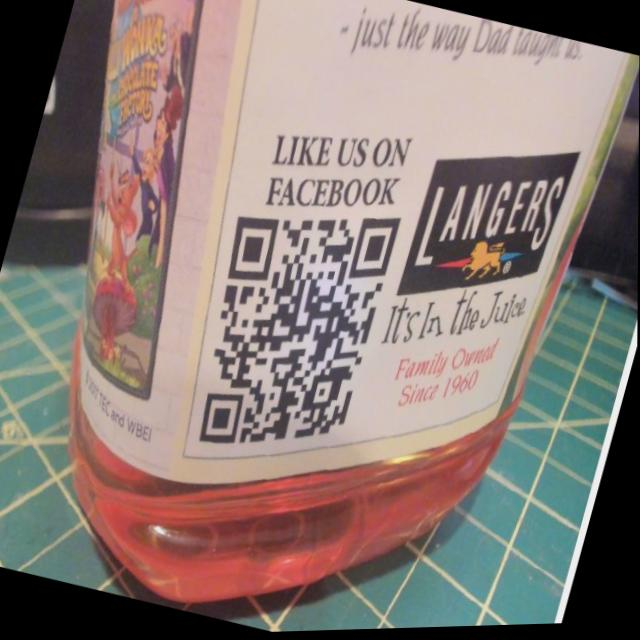QR_CODE: (158, 147, 420, 494)
